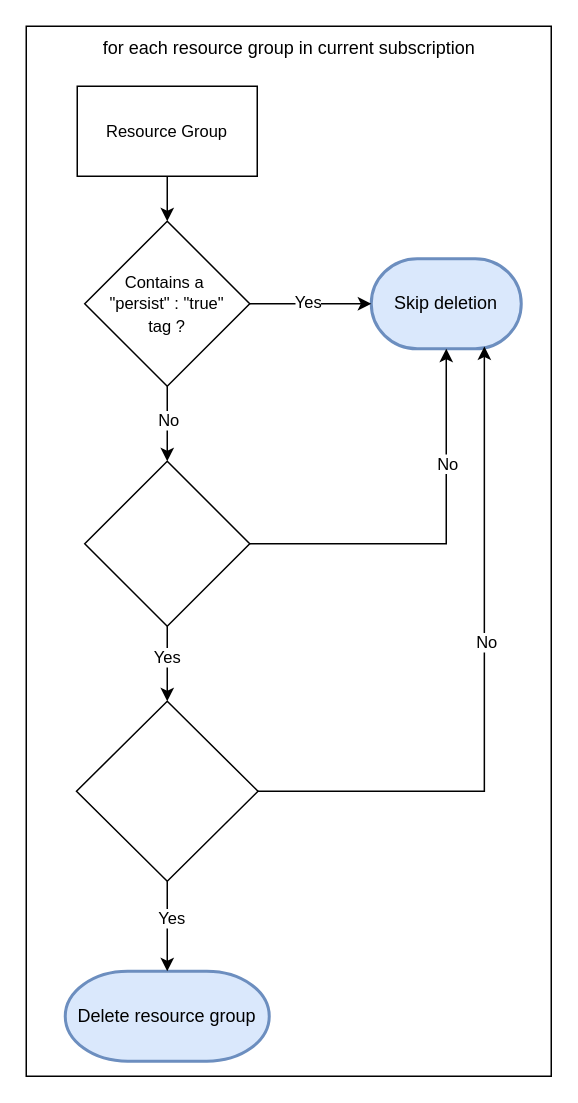
This 578x1103 diagram has some shape labels left out. Each missing label, with the centre of its shape:
"Has a creation timestamp tag?" goes at pixel 166 543.
"Is the creation date older than 2 days ?" goes at pixel 166 790.
